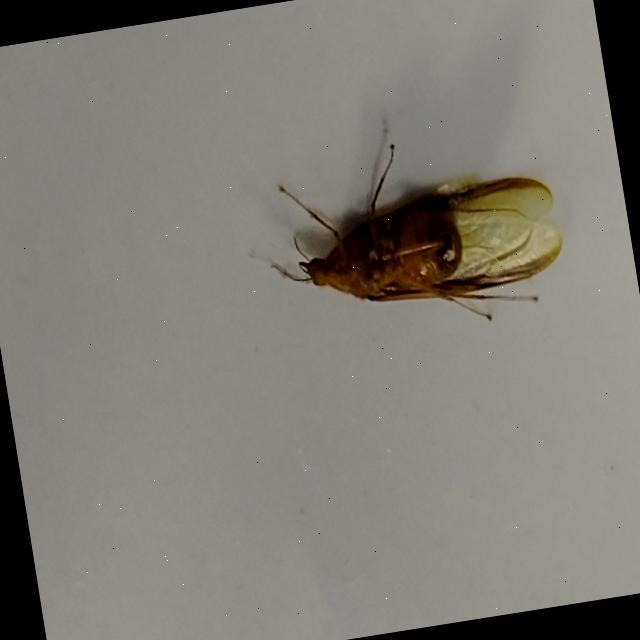Dead-Male-Alate: (246, 117, 574, 360)
